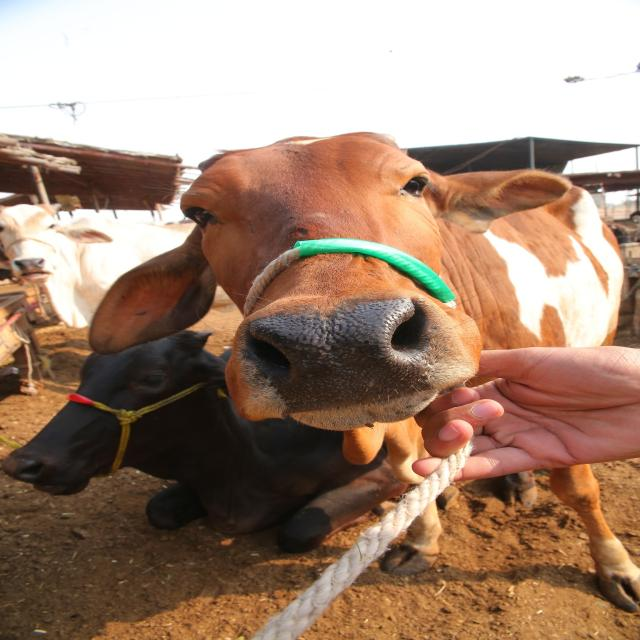muzzles: (221, 292, 448, 407)
